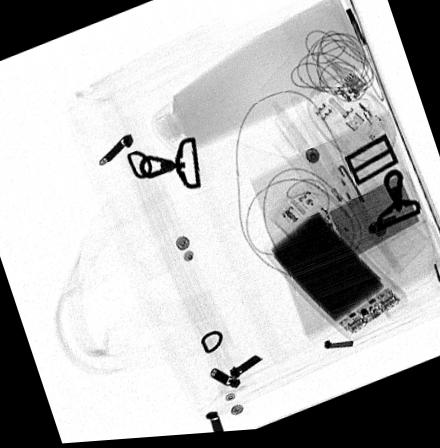Powerbank: (264, 209, 406, 345), (312, 175, 424, 271)
